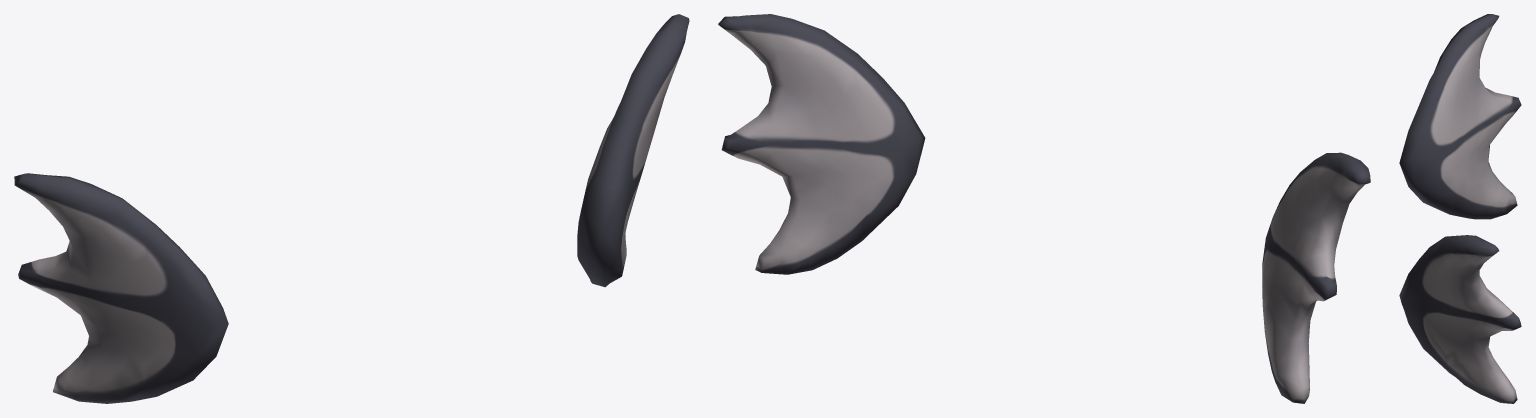
File: fins.fbx
3 views of the same model, side by side, from view 1: azimuth 30°, elevation 25°; view 2: azimuth 150°, elevation 25°; view 3: azimuth 270°, elevation 25° (orthographic). The views are drawn at different scales.
Parts seen in each view (by area): view 1: RetopoFlow.001; view 2: RetopoFlow.001; view 3: RetopoFlow.001.
Boxes of the visible parts, x1=… form: RetopoFlow.001: x1=14, y1=14, x2=689, y2=403; RetopoFlow.001: x1=718, y1=14, x2=1370, y2=403; RetopoFlow.001: x1=1399, y1=14, x2=1521, y2=403.
Size of the model in its own units: 325 by 113 by 70.27.
Materials: 1 (1 with a texture image).
